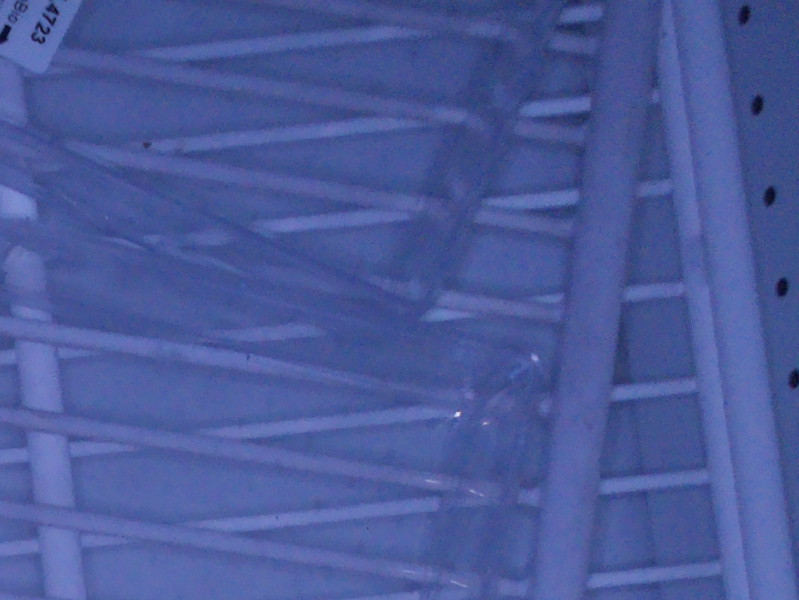plate: (1, 225, 542, 600), (1, 1, 569, 320)
